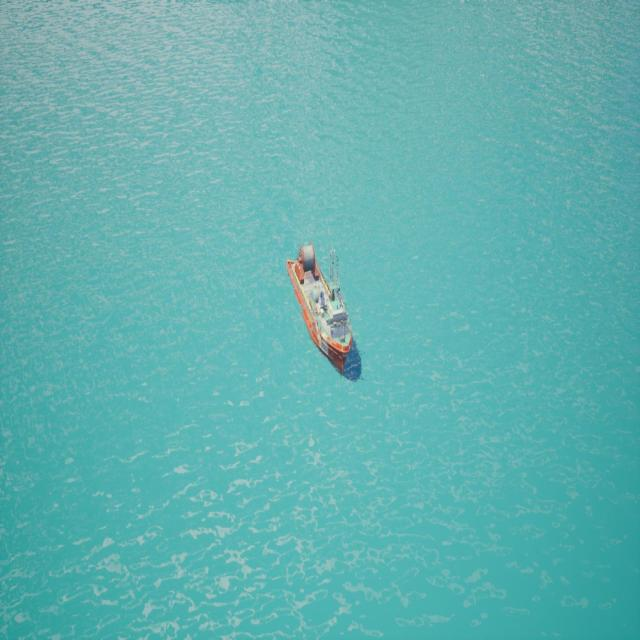tug boat: (281, 198, 377, 439)
